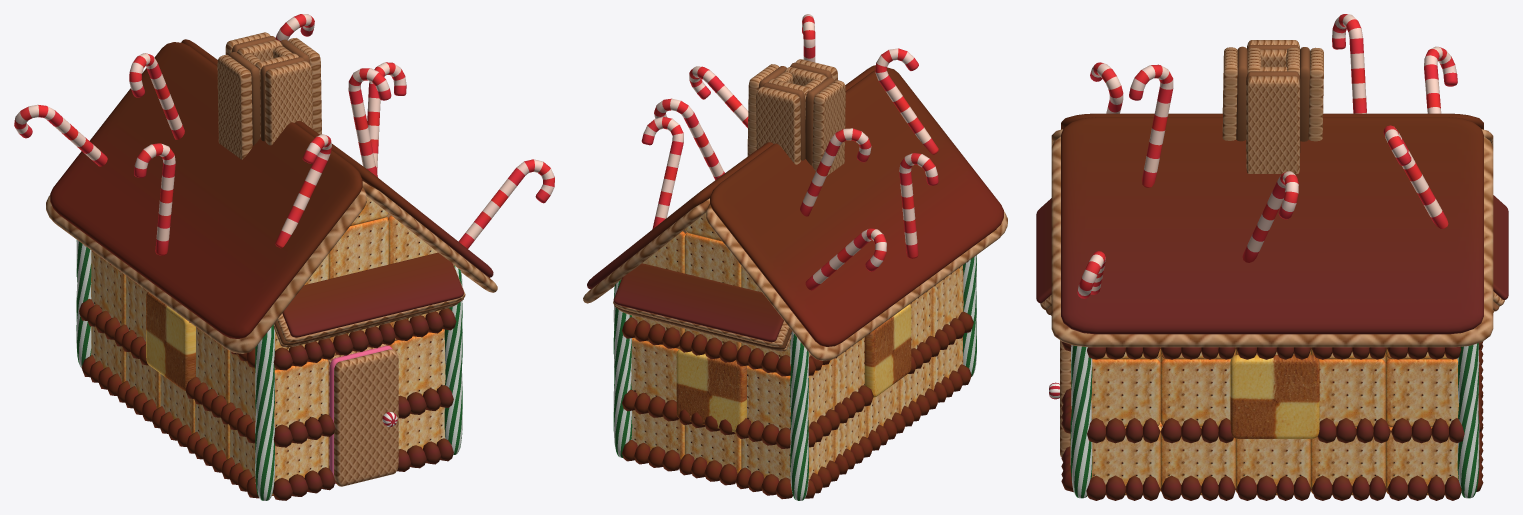
The model's file is cw_house_7.fbx.
3 views of the same model, side by side, from view 1: azimuth 30°, elevation 25°; view 2: azimuth 150°, elevation 25°; view 3: azimuth 270°, elevation 25° (orthographic). The views are drawn at different scales.
Visible parts, largest first — view 1: cw_house_7; view 2: cw_house_7; view 3: cw_house_7.
Boxes of the visible parts, <box> form: cw_house_7: <box>14,14,554,500</box>; cw_house_7: <box>583,14,1007,500</box>; cw_house_7: <box>1036,14,1508,500</box>.
Bounding box in the file's own units: 673 × 647 × 680.
